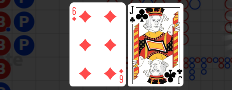6D: (118, 67, 124, 84)
JC: (176, 67, 183, 84)
